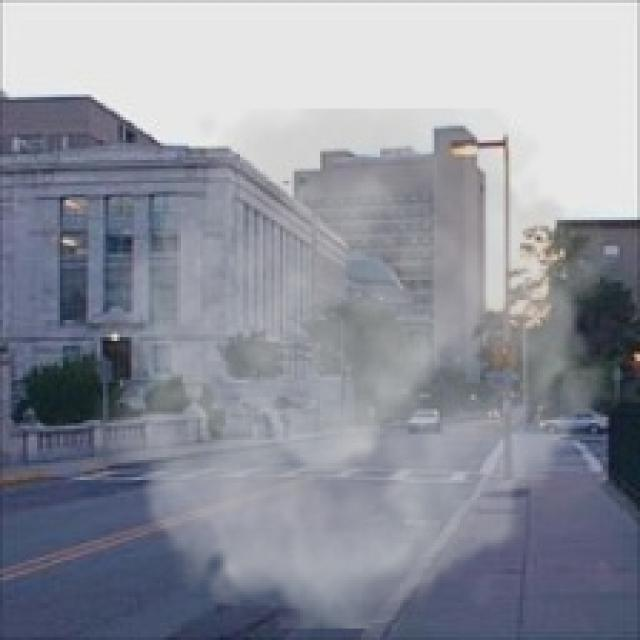Smoke: (82, 109, 628, 628)
